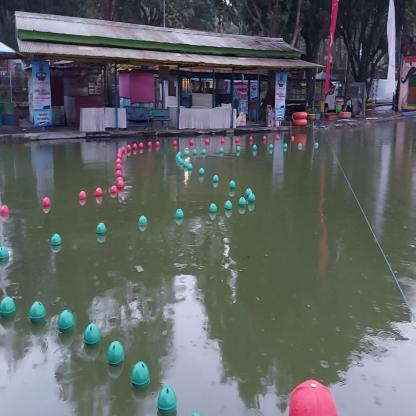green_buoy: (156, 384, 178, 416), (131, 362, 150, 388), (57, 309, 76, 330), (84, 323, 101, 346), (0, 296, 17, 317), (30, 300, 46, 322), (108, 341, 124, 362), (50, 233, 62, 246), (96, 222, 107, 235), (0, 247, 10, 261), (138, 216, 148, 226), (224, 200, 233, 210), (176, 208, 184, 218), (248, 193, 256, 202), (209, 203, 217, 212), (229, 180, 236, 190), (245, 188, 252, 197), (239, 196, 246, 205), (198, 167, 205, 175), (212, 174, 219, 180), (188, 163, 193, 169), (236, 146, 241, 151), (176, 154, 180, 160), (180, 158, 184, 164), (284, 143, 288, 148), (269, 144, 274, 148), (252, 145, 256, 150), (202, 149, 206, 154), (193, 149, 197, 154), (177, 152, 182, 156), (178, 157, 182, 162), (315, 142, 319, 146), (298, 143, 302, 147), (220, 148, 224, 152), (185, 150, 189, 154), (184, 162, 188, 166)
red_buoy: (94, 186, 103, 196), (1, 205, 10, 215), (42, 197, 51, 206), (79, 191, 87, 198), (117, 176, 123, 184), (118, 181, 124, 188), (111, 185, 117, 192), (118, 148, 123, 156), (116, 164, 122, 170), (116, 171, 122, 176), (147, 141, 152, 146), (127, 145, 132, 150), (117, 154, 122, 159), (116, 158, 121, 163), (122, 146, 126, 152), (249, 136, 253, 141), (235, 137, 239, 142), (221, 138, 225, 143), (139, 143, 144, 147), (133, 144, 137, 149), (118, 151, 122, 156), (174, 141, 178, 145), (156, 142, 160, 146), (190, 139, 193, 144), (263, 136, 266, 140), (276, 136, 280, 139), (206, 139, 209, 143), (291, 136, 294, 139)
